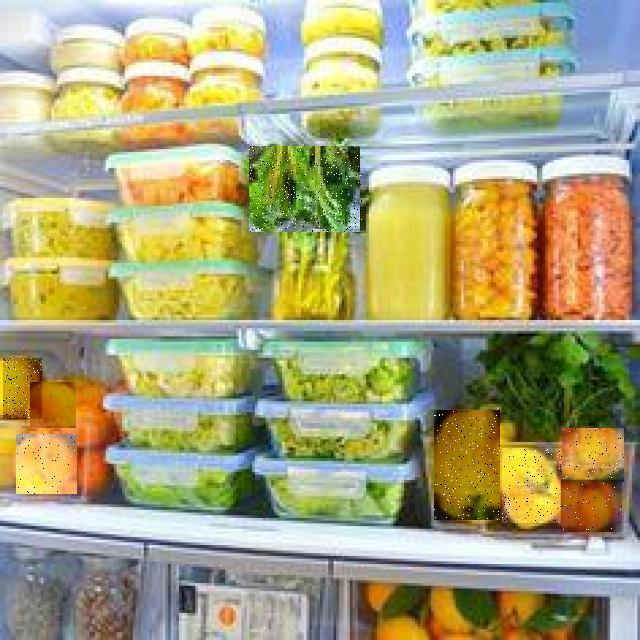Orange: (16, 434, 77, 494), (3, 358, 42, 419), (30, 382, 76, 428)
Parsley: (250, 147, 364, 233)
Yellow bell pepper: (434, 410, 500, 520), (502, 448, 562, 523), (562, 429, 624, 483), (562, 480, 624, 532)
